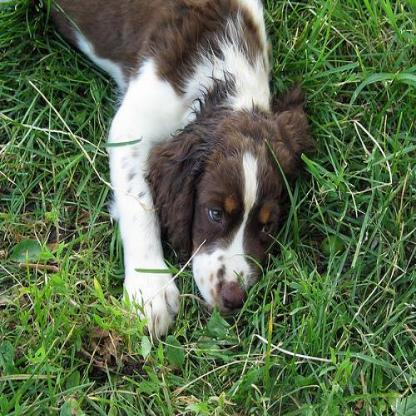English_springer: (24, 0, 313, 339)
